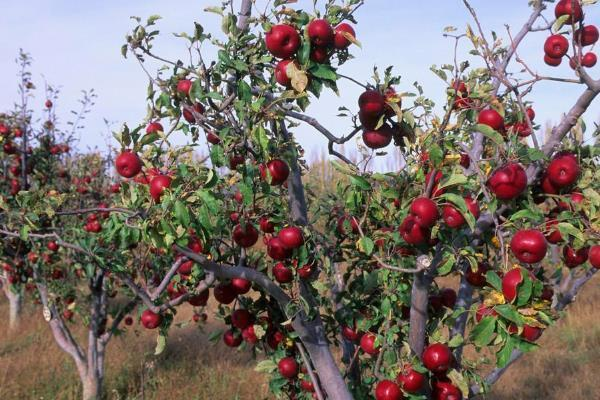apple: (511, 227, 549, 265), (441, 194, 482, 229), (544, 149, 580, 186), (265, 20, 300, 56), (419, 343, 454, 372), (428, 379, 468, 400), (398, 218, 429, 245), (114, 149, 141, 178), (309, 17, 335, 46), (542, 33, 570, 59), (413, 197, 438, 226), (139, 306, 161, 330)
